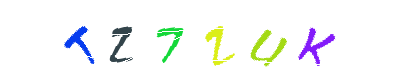2: (80, 0, 160, 80), (159, 0, 239, 80)
7: (130, 0, 210, 80)
K: (255, 0, 335, 80)
T: (39, 0, 119, 80)
U: (204, 0, 284, 80)
